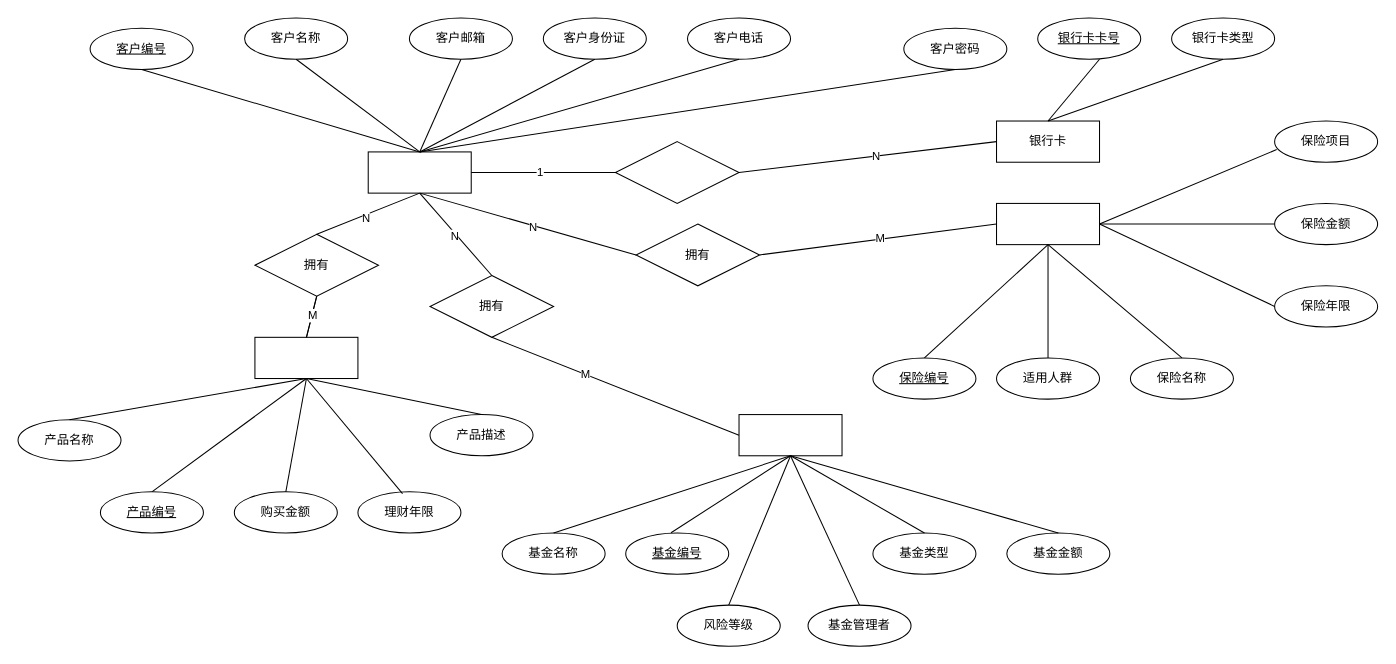
This 1396x664 diagram has some shape labels left out. The shapes that lost their labels are listed below. From the top down, each one's box as (x1, y1, x2, y2) in pixels, then its label:
(367, 151, 471, 193): 客户
(614, 141, 739, 203): 办理
(995, 202, 1100, 245): 保险
(254, 336, 358, 379): 理财产品
(738, 414, 842, 456): 基金
